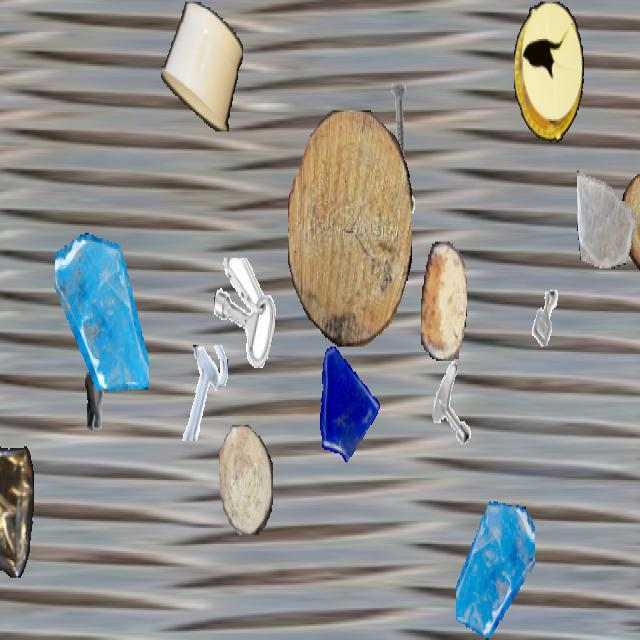glass: (55, 231, 149, 398), (456, 500, 534, 638), (310, 336, 380, 460), (577, 164, 635, 266)
metal: (363, 176, 425, 286), (214, 258, 276, 368), (176, 345, 230, 441), (426, 356, 480, 452), (70, 359, 120, 448), (375, 80, 423, 165), (524, 279, 568, 357)
plastic: (161, 2, 243, 130), (514, 2, 584, 140), (0, 414, 33, 585)
wood: (288, 110, 412, 345), (219, 425, 273, 535), (421, 242, 467, 359), (621, 174, 640, 270)
